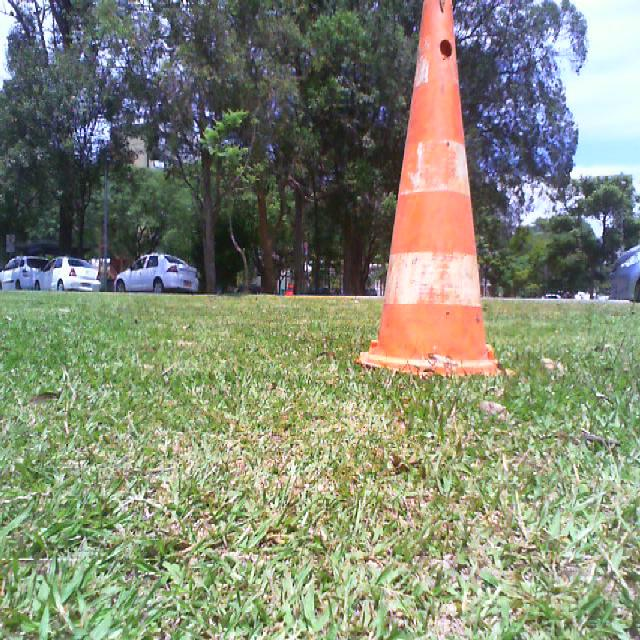cone: (360, 0, 498, 376)
